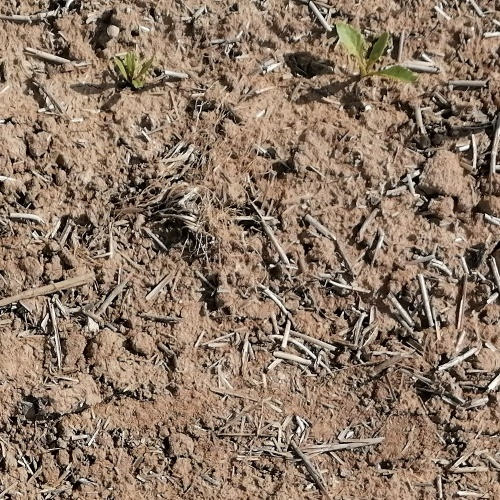beet: (335, 22, 417, 82), (114, 52, 155, 89)
